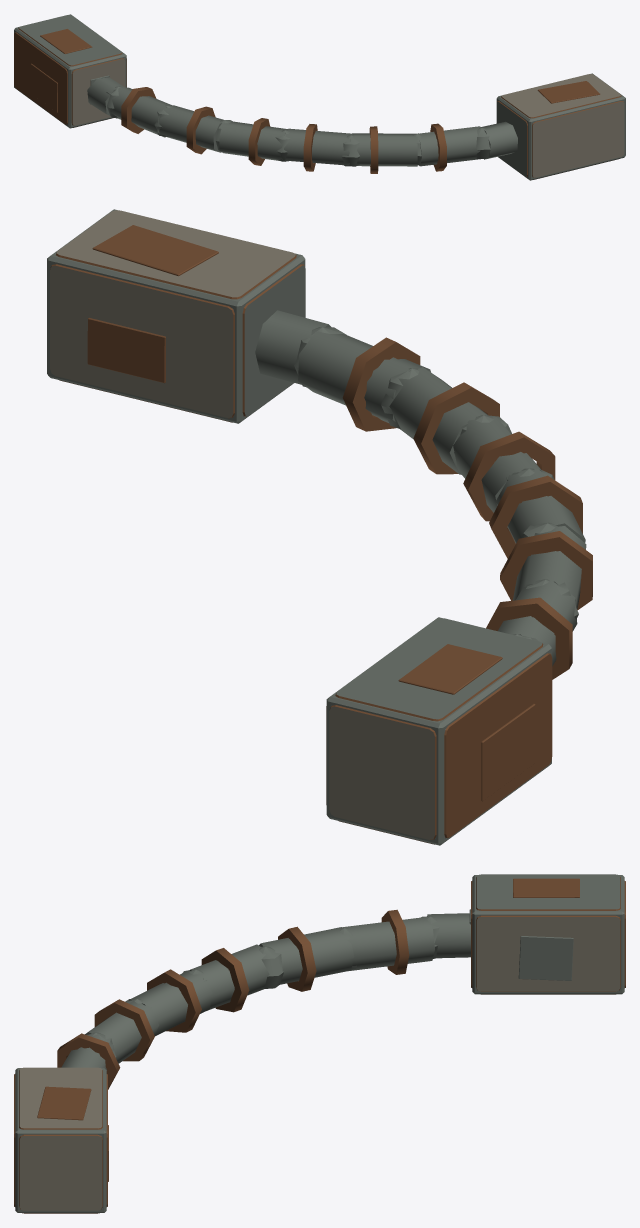
The model's file is R4C_ROD_ARC_LONG.fbx.
The picture shows the model from 3 angles, top to bottom: view 1: azimuth 30°, elevation 25°; view 2: azimuth 150°, elevation 25°; view 3: azimuth 270°, elevation 25°; orthographic projection. The views are drawn at different scales.
Visible parts, largest first — view 1: R4C_ROD_ARC_LONG; view 2: R4C_ROD_ARC_LONG; view 3: R4C_ROD_ARC_LONG.
Part boxes in pixels (x1,y1,x2,y2): R4C_ROD_ARC_LONG: [14, 14, 625, 180]; R4C_ROD_ARC_LONG: [47, 209, 592, 845]; R4C_ROD_ARC_LONG: [14, 874, 625, 1213].
Bounding box in the file's own units: 1.48 × 0.229 × 1.47.
